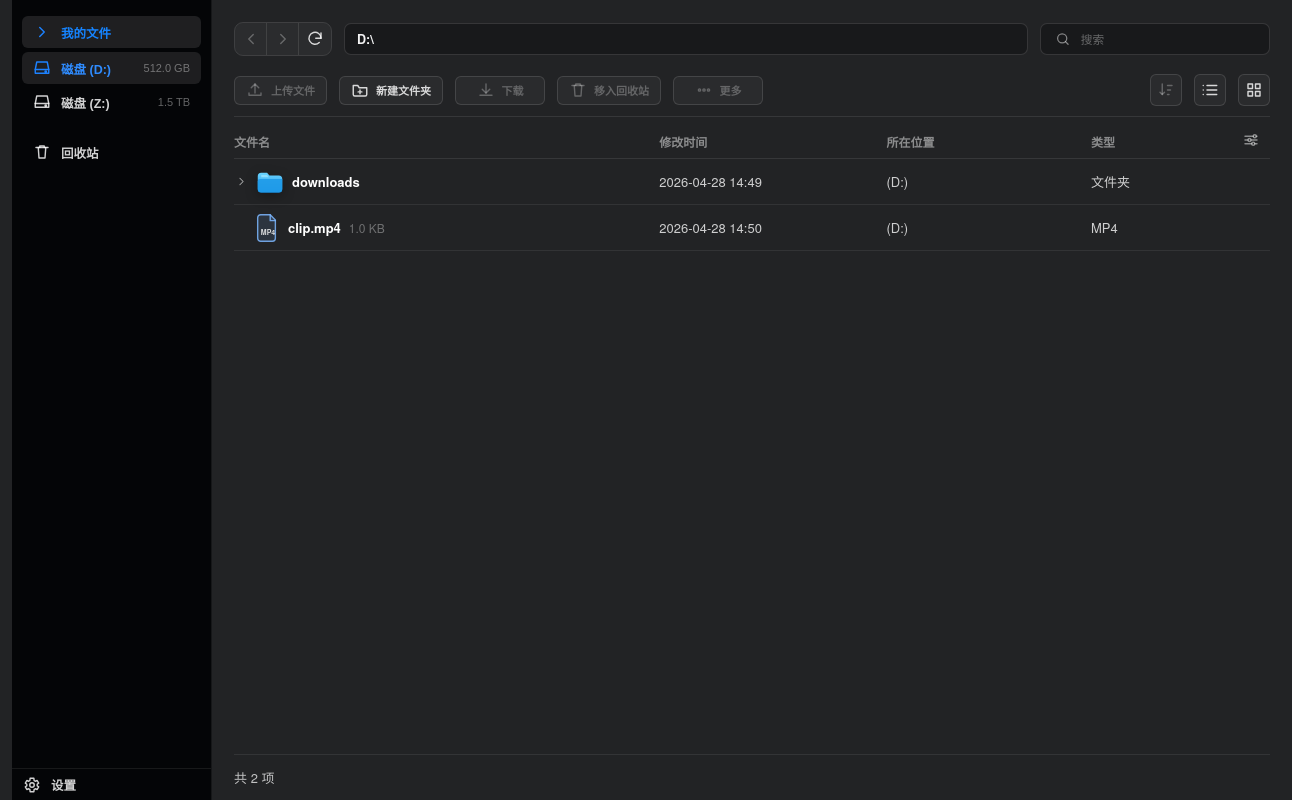
Test case: FileManagerApp › filters visible files and folders by keyword
Expected: the text "downloads" is shown, top-left (292, 172), bottom-right (360, 191)
Type "clip" into the field with placeholder "搜索" at (1168, 39), box top-left (1081, 32), bottom-right (1255, 46)
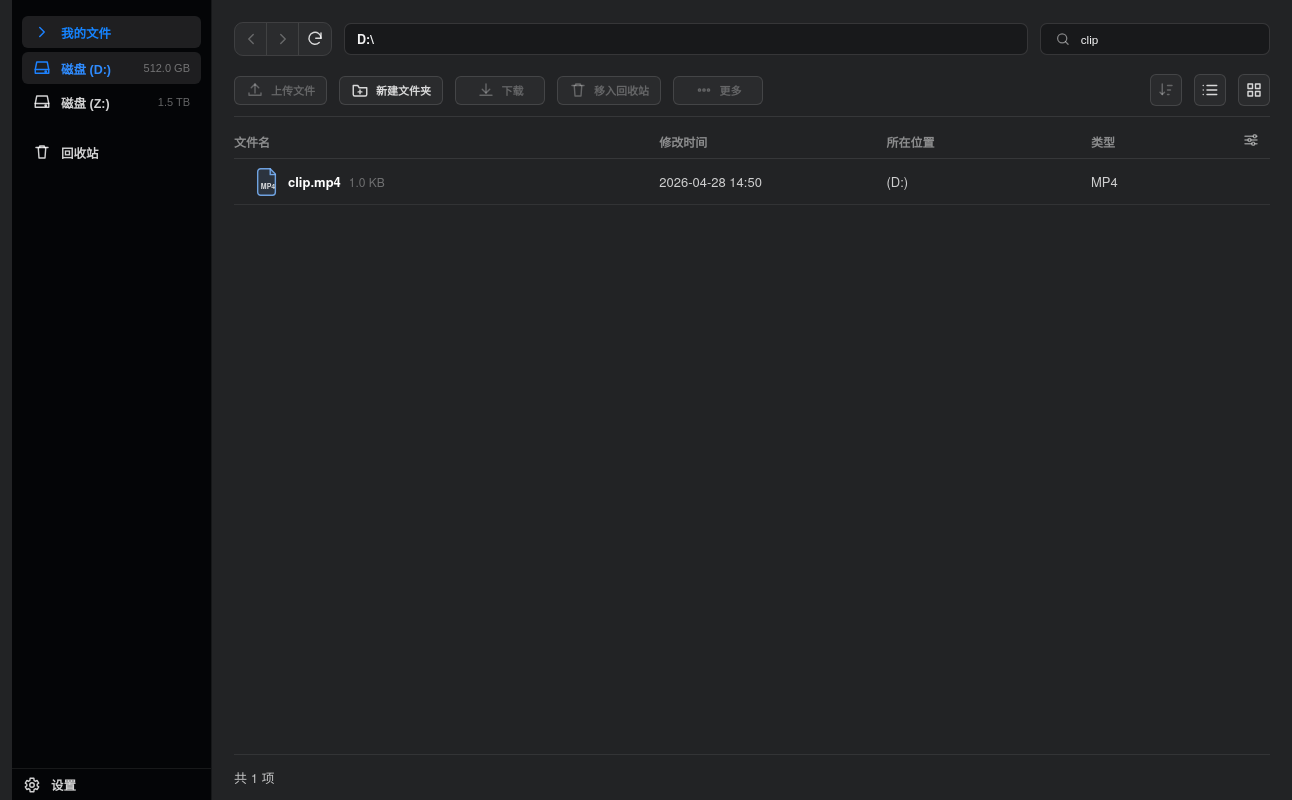
Expected: the text "clip.mp4" is shown, top-left (288, 172), bottom-right (341, 191)
Expected: the text "downloads" is gone
